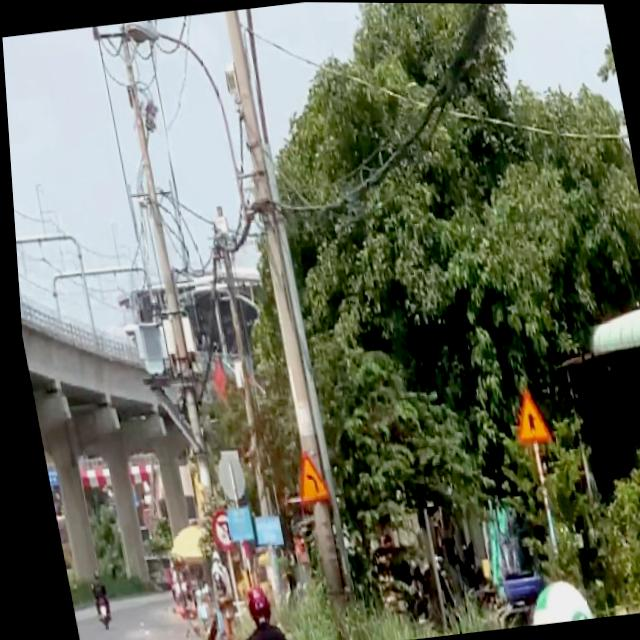Giao nhau voi duong khong uu tien ben phai: (502, 385, 547, 445)
cho ngoat nguy hiem vong ben trai: (282, 445, 327, 509)
